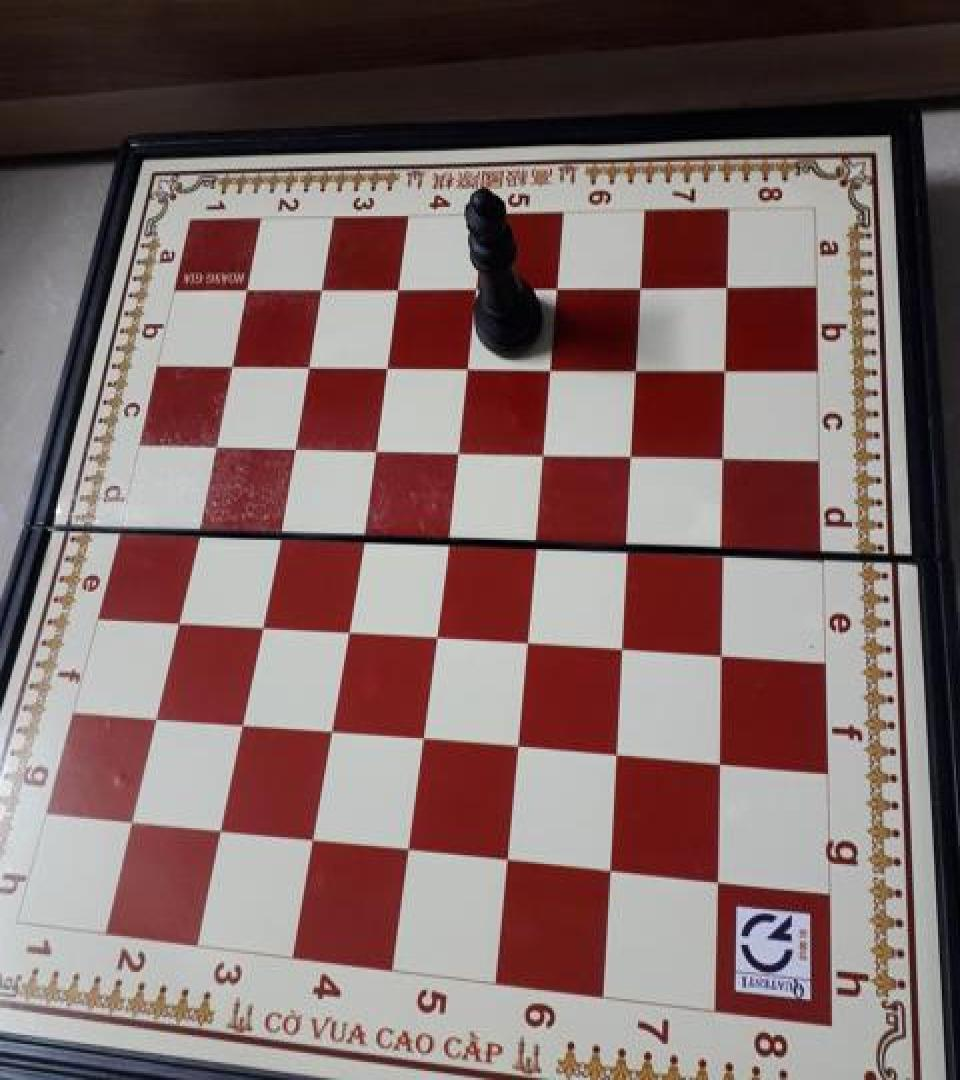xcorner: (708, 436, 742, 475), (711, 267, 745, 305), (624, 267, 658, 305), (540, 268, 574, 306), (458, 268, 492, 306), (379, 268, 413, 306), (302, 268, 336, 306), (227, 269, 261, 307), (710, 349, 744, 387), (620, 348, 654, 386), (533, 346, 567, 384), (449, 346, 483, 384), (367, 346, 401, 384), (288, 344, 322, 382), (211, 343, 245, 381), (616, 434, 650, 472), (526, 432, 560, 470), (439, 430, 473, 468), (354, 428, 388, 466), (272, 426, 306, 464), (193, 423, 227, 461), (707, 531, 741, 569), (611, 526, 645, 564), (518, 523, 552, 561), (428, 519, 462, 557), (341, 516, 375, 554), (256, 512, 290, 550), (174, 508, 208, 546), (705, 632, 739, 670), (605, 627, 639, 665), (509, 620, 543, 658), (416, 614, 450, 652), (326, 610, 360, 648), (239, 604, 273, 642), (155, 600, 189, 638), (703, 742, 737, 780), (600, 734, 634, 772), (500, 726, 534, 764), (403, 718, 437, 756), (310, 711, 344, 749), (220, 703, 254, 741), (133, 696, 167, 734), (701, 860, 735, 898), (594, 850, 628, 888), (490, 840, 524, 878), (390, 829, 424, 867), (293, 819, 327, 857), (200, 810, 234, 848), (110, 801, 144, 839)
